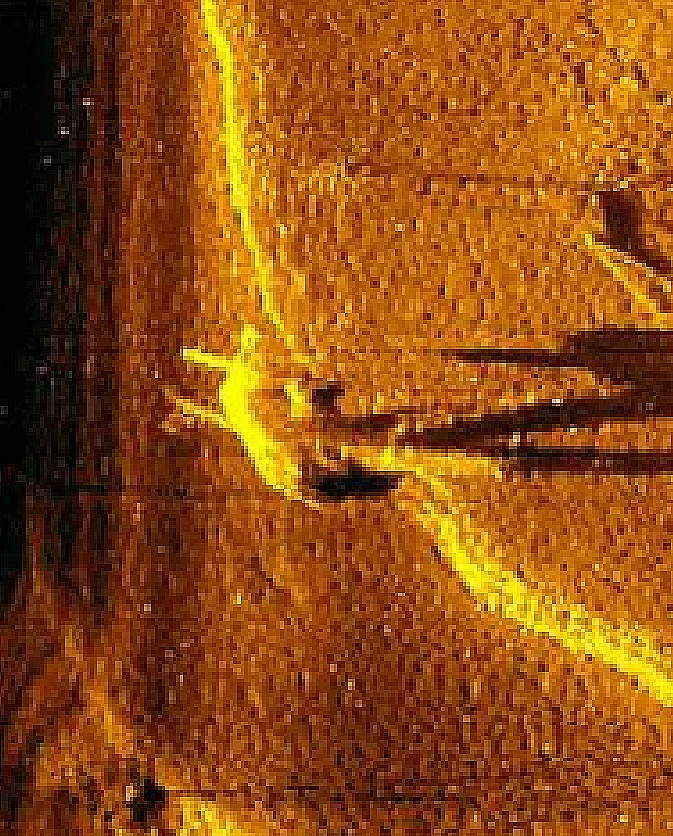aircraft: (144, 322, 526, 511)
